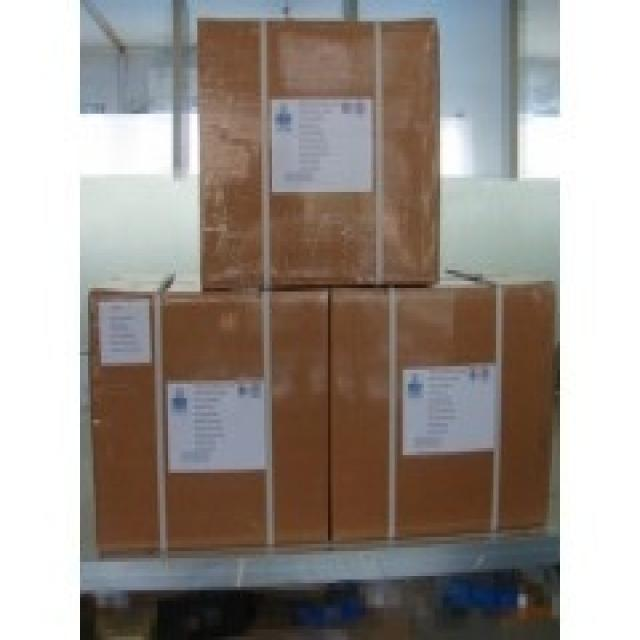box: (88, 267, 328, 555), (197, 18, 440, 288), (328, 270, 555, 548)
